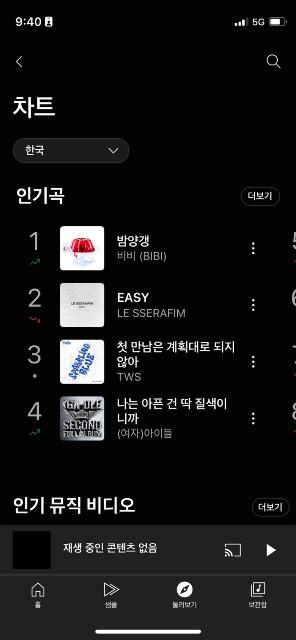Bottom_Navigation: (0, 572, 296, 640)
Icon: (176, 581, 194, 597), (249, 581, 267, 597), (224, 544, 242, 558), (267, 54, 281, 70), (105, 583, 119, 597), (32, 582, 44, 598), (267, 544, 277, 558), (15, 55, 22, 69), (29, 429, 41, 437), (29, 258, 41, 266), (30, 315, 40, 323), (108, 148, 120, 154), (252, 410, 256, 426), (252, 300, 256, 312), (252, 242, 254, 255), (252, 356, 254, 368), (33, 374, 37, 378)
Image: (60, 226, 104, 270), (60, 283, 104, 327), (60, 340, 104, 384), (60, 396, 104, 439)
List: (1, 211, 286, 441)
Text: (118, 341, 235, 383), (118, 398, 226, 439), (14, 496, 136, 514), (118, 292, 186, 318), (116, 236, 166, 262), (64, 543, 159, 553), (13, 96, 55, 118), (16, 187, 64, 205), (28, 401, 42, 421), (28, 344, 40, 364), (26, 144, 44, 156), (29, 288, 41, 306), (29, 230, 39, 250), (260, 503, 282, 512), (247, 192, 271, 200), (174, 602, 196, 608), (248, 602, 268, 608), (105, 601, 117, 609), (36, 602, 40, 608)
TextImageButton: (14, 136, 130, 164), (174, 580, 196, 608), (250, 582, 268, 608), (105, 583, 119, 609), (32, 582, 44, 608)
Toolbar: (0, 34, 296, 80)
UpperTaskBar: (0, 0, 296, 32)
